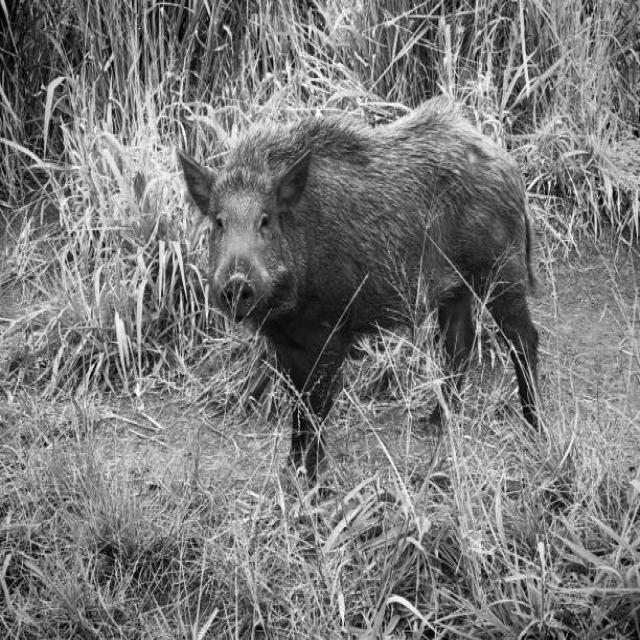boar: (177, 96, 536, 477)
